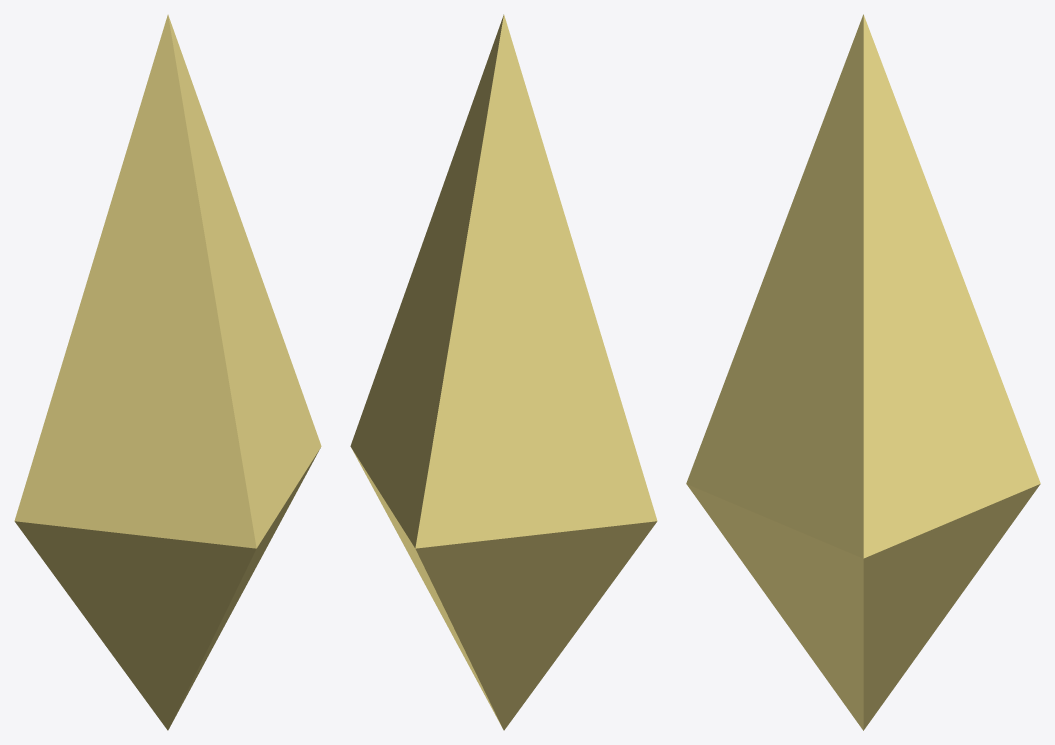
The model's file is top_crystal.glb.
3 renders of one model, left to right at view 1: azimuth 30°, elevation 25°; view 2: azimuth 150°, elevation 25°; view 3: azimuth 270°, elevation 25°, orthographic.
Parts seen in each view (by area): view 1: Crystal; view 2: Crystal; view 3: Crystal.
Part boxes in pixels (left/top/right/bottom): Crystal: left=14, top=14, right=321, bottom=730; Crystal: left=350, top=14, right=657, bottom=730; Crystal: left=686, top=14, right=1040, bottom=730.
Size of the model in its own units: 0.26 by 0.58 by 0.26.
